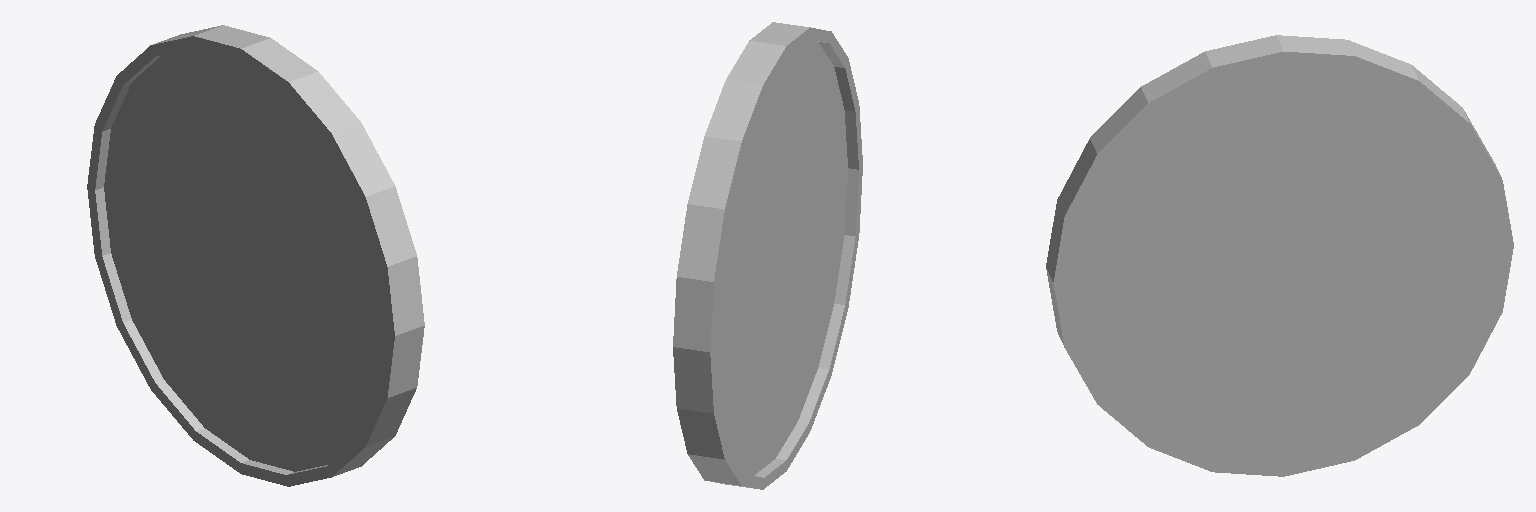
File: coin 3.obj
3 views of the same model, side by side, from view 1: azimuth 30°, elevation 25°; view 2: azimuth 150°, elevation 25°; view 3: azimuth 270°, elevation 25° (orthographic).
Visible parts, largest first — view 1: pCylinder1; view 2: pCylinder1; view 3: pCylinder1.
Boxes of the visible parts, box(x1,y1,x2,y2) form: pCylinder1: box(87, 25, 424, 486); pCylinder1: box(673, 22, 862, 489); pCylinder1: box(1046, 35, 1513, 476).
Bounding box in the file's own units: 0.5466 × 2 × 2.